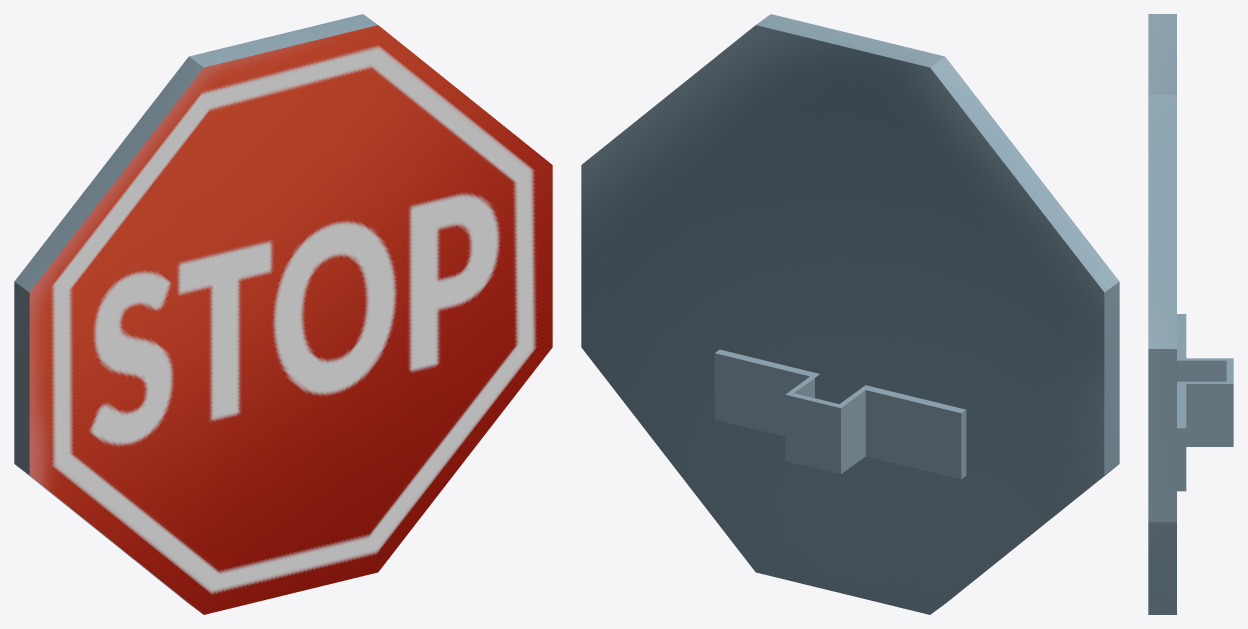
Rendered from Sign40.fbx.
3 renders of one model, left to right at view 1: azimuth 30°, elevation 25°; view 2: azimuth 150°, elevation 25°; view 3: azimuth 270°, elevation 25°, orthographic. The views are drawn at different scales.
Parts seen in each view (by area): view 1: Sign40; view 2: Sign40; view 3: Sign40.
Part boxes in pixels (x1=…): Sign40: x1=14, y1=14, x2=552, y2=614; Sign40: x1=581, y1=14, x2=1119, y2=614; Sign40: x1=1148, y1=14, x2=1233, y2=614.
Bounding box in the file's own units: 1 × 0.1489 × 1.
